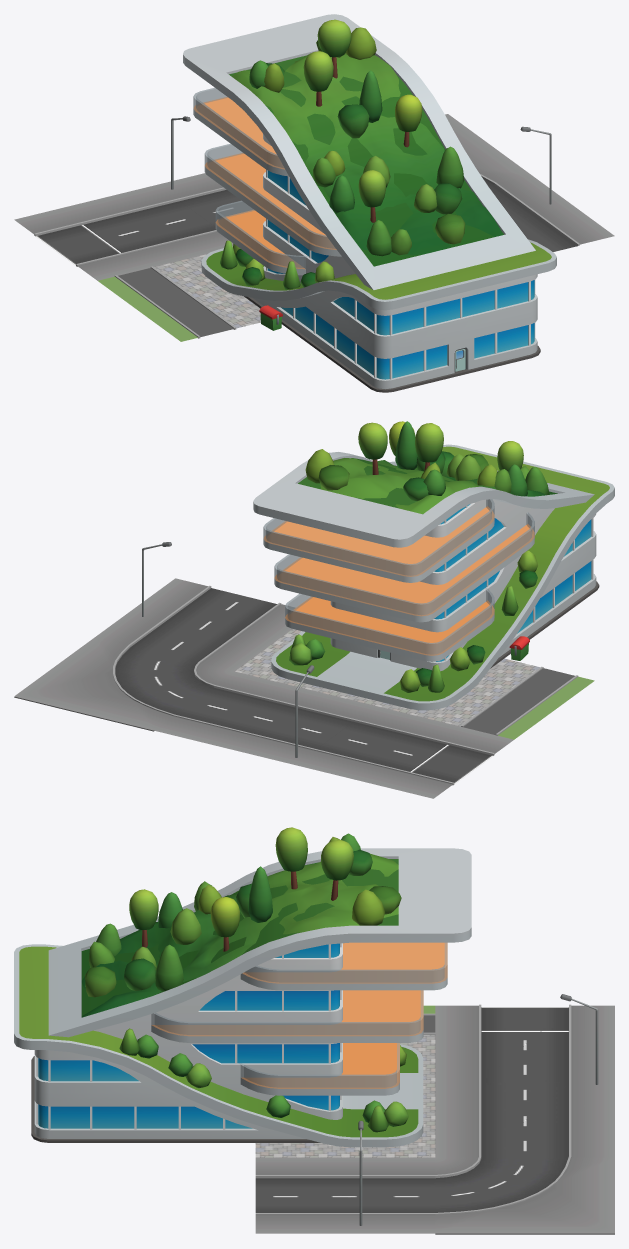
The model's file is south-east.gltf.
3 renders of one model, top to bottom at view 1: azimuth 30°, elevation 25°; view 2: azimuth 150°, elevation 25°; view 3: azimuth 270°, elevation 25°, orthographic. The views are drawn at different scales.
Visible parts, largest first — view 1: Eco_Building_Terrace.008, road_022.107, Set_B_Tiles_05.114, road_009.246, road_009.248, road_013.019; view 2: Eco_Building_Terrace.008, road_013.019, road_022.107, road_009.248, road_009.246, Set_B_Tiles_05.114, Set_B_Tiles_09.151; view 3: Eco_Building_Terrace.008, road_013.019, road_009.248, road_009.246, road_022.107, Set_B_Tiles_09.151, Set_B_Tiles_05.114.
Boxes of the visible parts, x1,y1,x2,y2 form: Eco_Building_Terrace.008: (183,14,556,392); road_022.107: (14,184,233,280); Set_B_Tiles_05.114: (98,254,260,341); road_009.246: (488,175,614,251); road_009.248: (159,173,252,226); road_013.019: (445,114,530,186); Eco_Building_Terrace.008: (253,421,614,710); road_013.019: (14,637,234,731); road_022.107: (294,705,513,798); road_009.248: (154,671,373,764); road_009.246: (95,578,294,671); Set_B_Tiles_05.114: (375,658,594,739); Set_B_Tiles_09.151: (235,629,379,705); Eco_Building_Terrace.008: (14,827,471,1147); road_013.019: (435,1156,614,1234); road_009.248: (435,1080,614,1158); road_009.246: (255,1157,435,1233); road_022.107: (435,1004,614,1082); Set_B_Tiles_09.151: (255,1081,435,1157); Set_B_Tiles_05.114: (400,1005,435,1081).
Bounding box in the file's own units: 45 × 24.51 × 50.18.
Materials: 7 (5 with a texture image).
